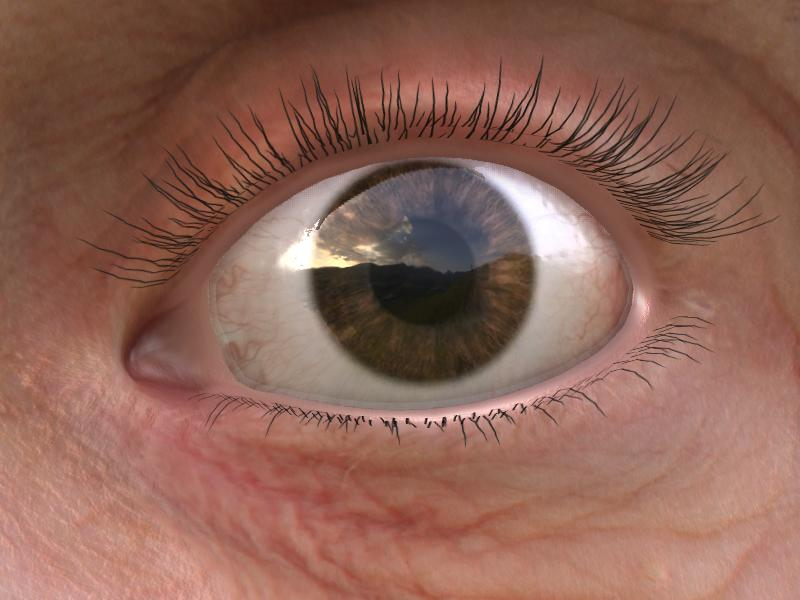eye: (305, 163, 539, 384)
